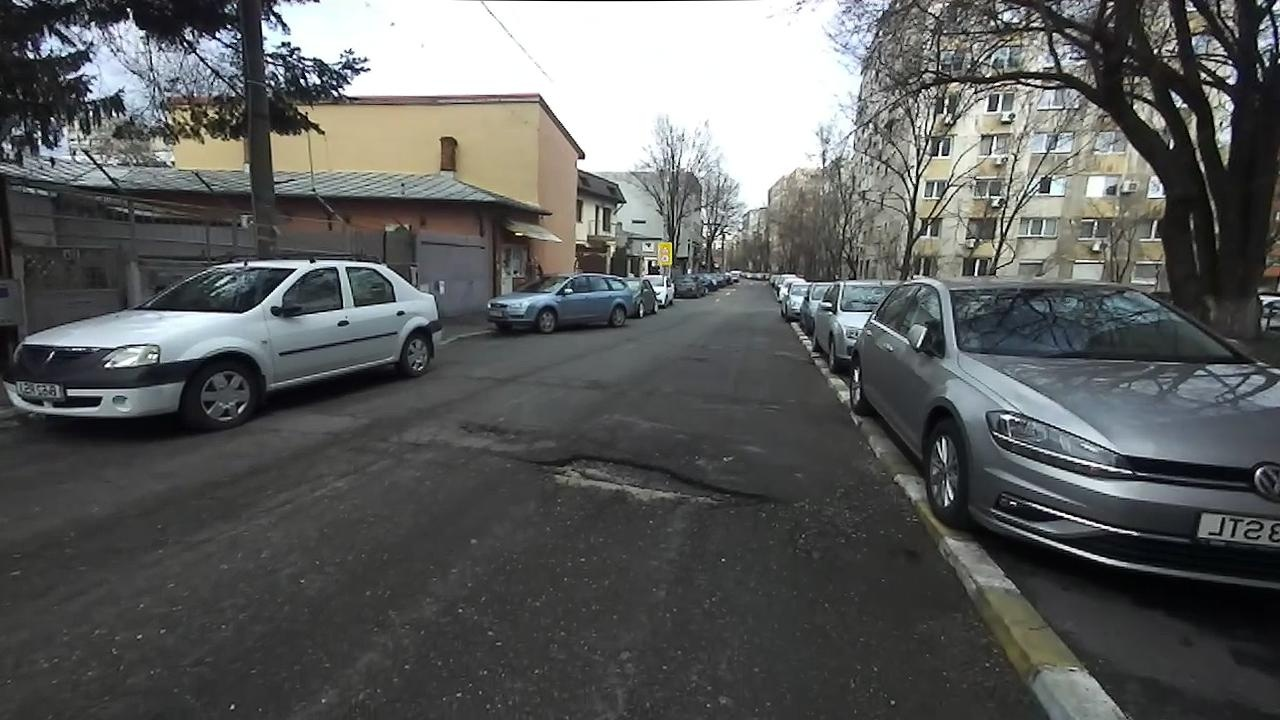pothole: (502, 451, 779, 509), (453, 413, 530, 443)
